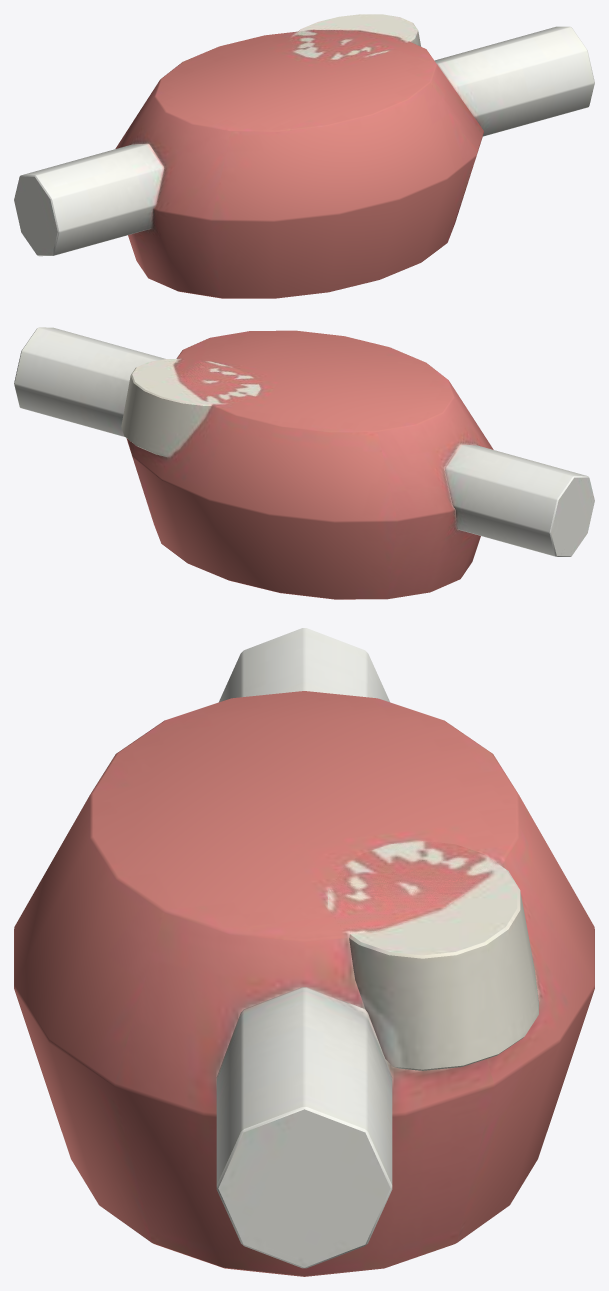
The model's file is IT_meat_raw.glb.
3 views of the same model, one above another, from view 1: azimuth 30°, elevation 25°; view 2: azimuth 150°, elevation 25°; view 3: azimuth 270°, elevation 25° (orthographic). The views are drawn at different scales.
Parts seen in each view (by area): view 1: IT_meat_raw; view 2: IT_meat_raw; view 3: IT_meat_raw.
Boxes of the visible parts, <box> form: IT_meat_raw: <box>14,14,594,298</box>; IT_meat_raw: <box>14,327,594,599</box>; IT_meat_raw: <box>14,628,594,1276</box>.
Bounding box in the file's own units: 0.6228 × 0.18 × 0.2948.
1 material, 1 textured.
